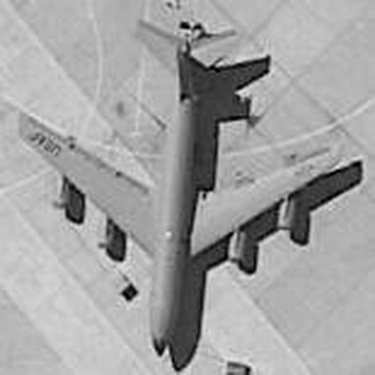airplane: (1, 18, 351, 363)
